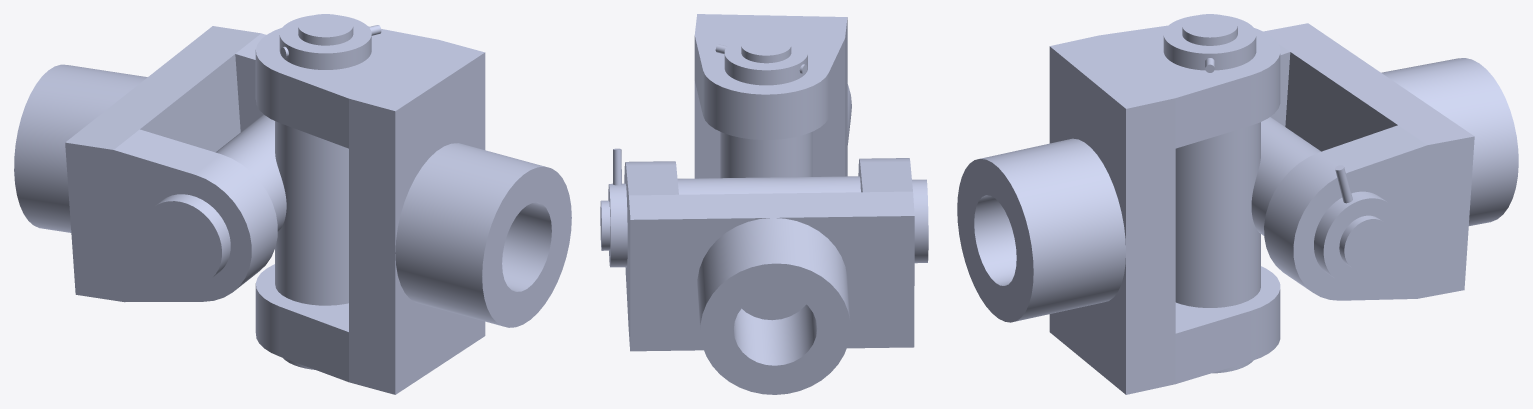
3 renders of one model, left to right at view 1: azimuth 30°, elevation 25°; view 2: azimuth 150°, elevation 25°; view 3: azimuth 270°, elevation 25°, orthographic. The views are drawn at different scales.
Visible parts, largest first — view 1: cw-06-02-03-1, cw-06-02-03-2, cw-06-02-05-1, cw-06-02-01-2, cw-06-02-04-1, cw-06-02-01-1; view 2: cw-06-02-03-2, cw-06-02-03-1, cw-06-02-05-1, cw-06-02-04-1, cw-06-02-01-2, cw-06-02-04-2, cw-06-02-01-1, cw-06-02-02-2; view 3: cw-06-02-03-1, cw-06-02-03-2, cw-06-02-05-1, cw-06-02-04-2, cw-06-02-04-1, cw-06-02-01-2, cw-06-02-01-1.
Boxes of the visible parts, left/top/right/bottom form: cw-06-02-03-1: left=255, top=26, right=571, bottom=394; cw-06-02-03-2: left=14, top=26, right=277, bottom=302; cw-06-02-05-1: left=215, top=114, right=348, bottom=305; cw-06-02-01-2: left=141, top=194, right=230, bottom=286; cw-06-02-04-1: left=279, top=15, right=371, bottom=69; cw-06-02-01-1: left=283, top=14, right=353, bottom=369; cw-06-02-03-2: left=624, top=158, right=914, bottom=394; cw-06-02-03-1: left=694, top=14, right=851, bottom=178; cw-06-02-05-1: left=677, top=132, right=860, bottom=194; cw-06-02-04-1: left=724, top=36, right=807, bottom=85; cw-06-02-01-2: left=600, top=179, right=928, bottom=263; cw-06-02-04-2: left=608, top=183, right=627, bottom=267; cw-06-02-01-1: left=741, top=34, right=791, bottom=63; cw-06-02-02-2: left=613, top=148, right=621, bottom=185; cw-06-02-03-1: left=957, top=25, right=1280, bottom=394; cw-06-02-03-2: left=1263, top=23, right=1518, bottom=300; cw-06-02-05-1: left=1175, top=117, right=1320, bottom=307; cw-06-02-04-2: left=1314, top=191, right=1402, bottom=284; cw-06-02-04-1: left=1163, top=15, right=1256, bottom=70; cw-06-02-01-2: left=1339, top=215, right=1391, bottom=270; cw-06-02-01-1: left=1182, top=14, right=1253, bottom=373.
Size of the model in its own units: 0.2324 by 0.195 by 0.3025.
